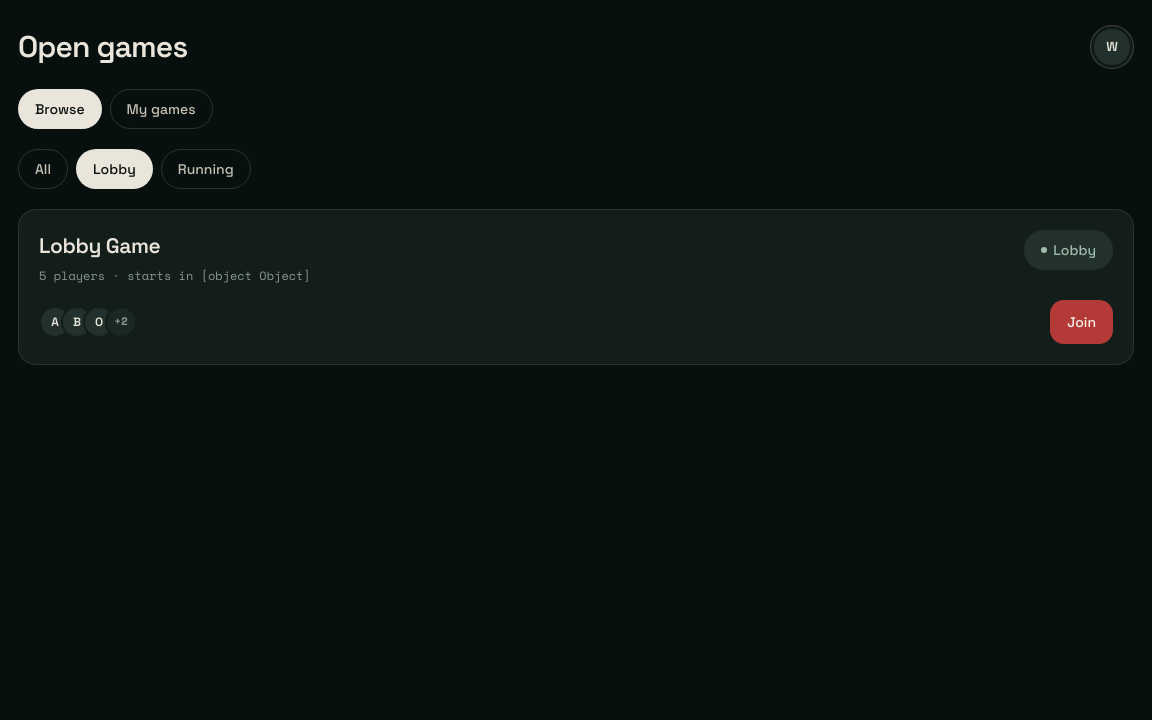
it: browser: renders games, filters by status, shows the avatar stack overflow
This screenshot has width=1152, height=720.
Expected: the heading "Lobby Game" is shown, [39,232,160,259]
Expected: the text "Running Game" is not shown
Click the button "All" at [43, 169], box [18,149,68,189]
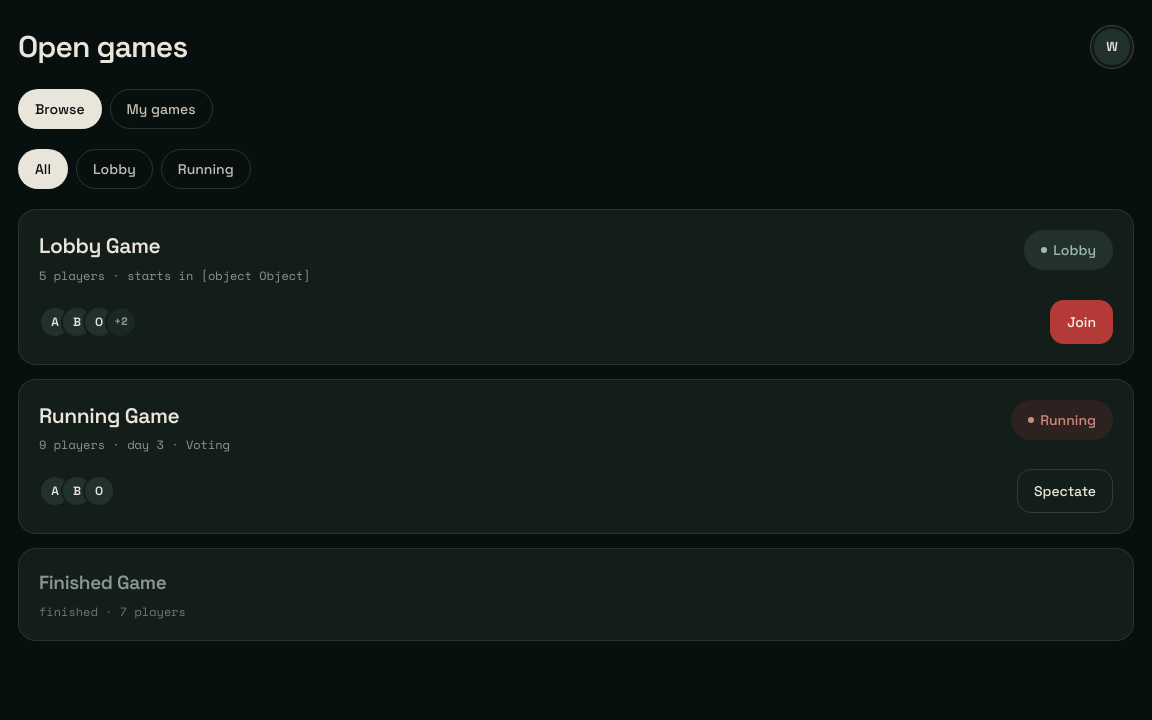
Now the heading "Running Game" is shown, box [39,402,179,428]
Now the text "Finished Game" is shown, box [39,569,166,598]
Now the text "9 players · day 3 · Voting" is shown, box [39,437,230,453]
Click the button "Running" at [206, 169], box [161,149,251,189]
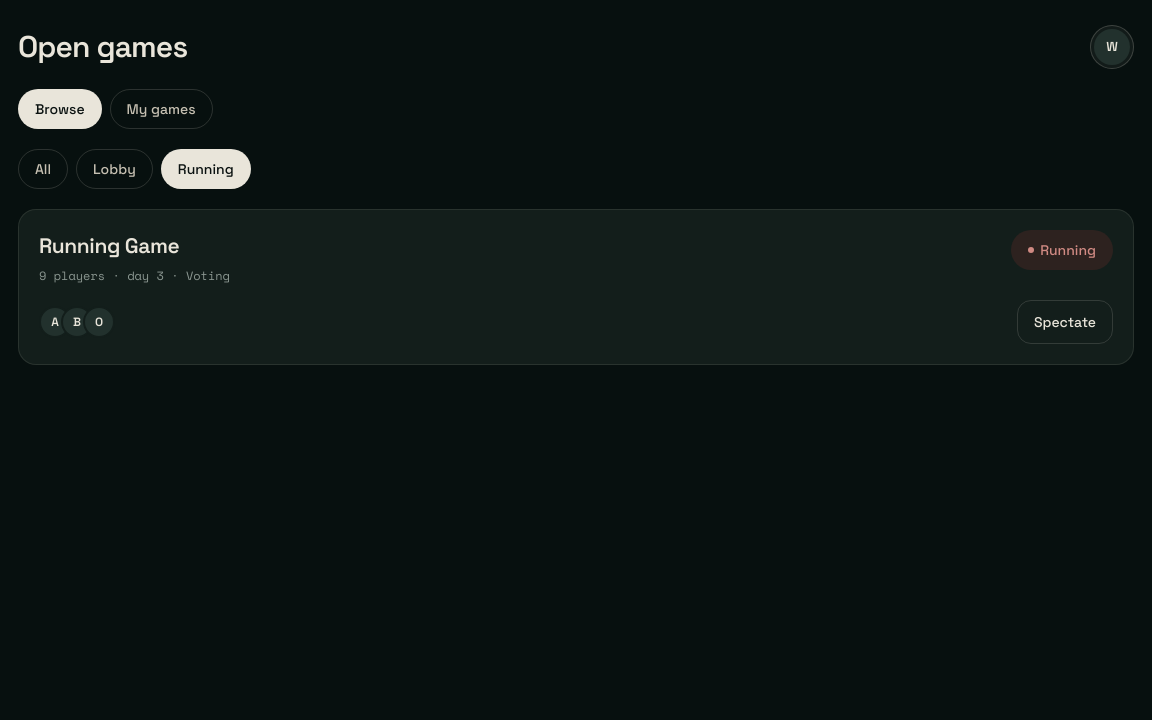
Now the heading "Running Game" is shown, box [39,232,179,259]
Now the heading "Lobby Game" is gone
Now the button "Finished Game" is gone
Note: Lobby keeps waiting games but hides finished ones, which only All shows.
Click the button "Lobby" at [114, 169], box [76,149,153,189]
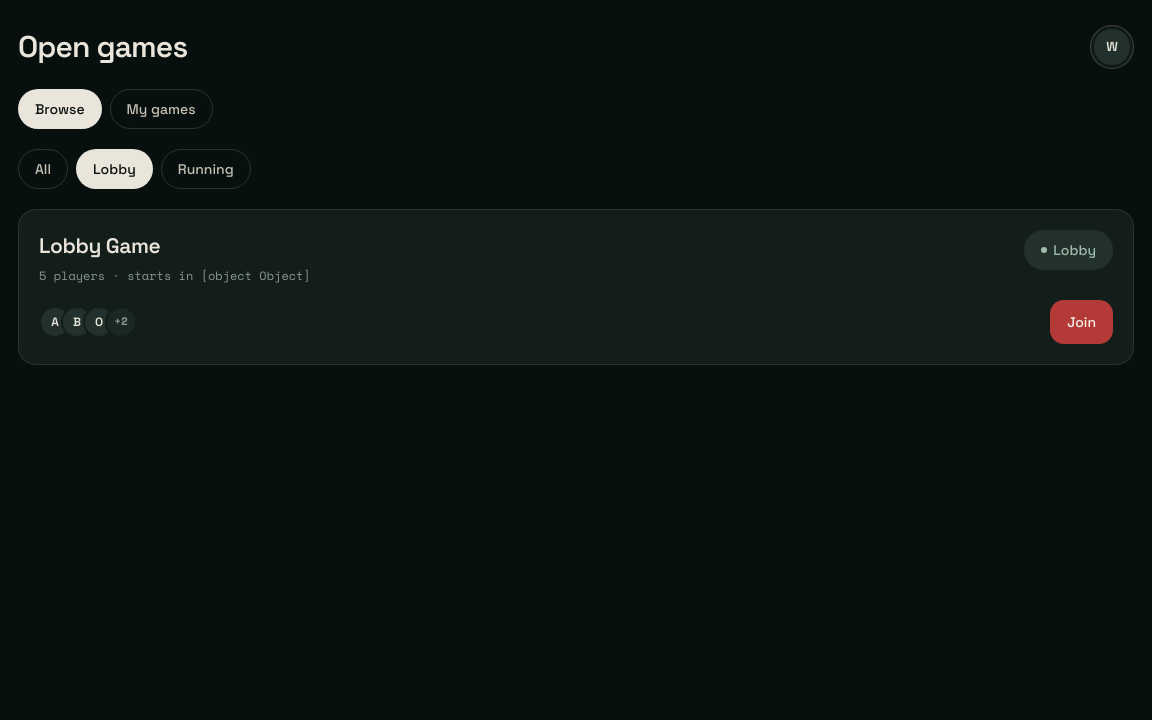
Expected: the button "Finished Game" is not shown
Now the heading "Lobby Game" is shown, box [39,232,160,259]
Now the heading "Running Game" is gone
